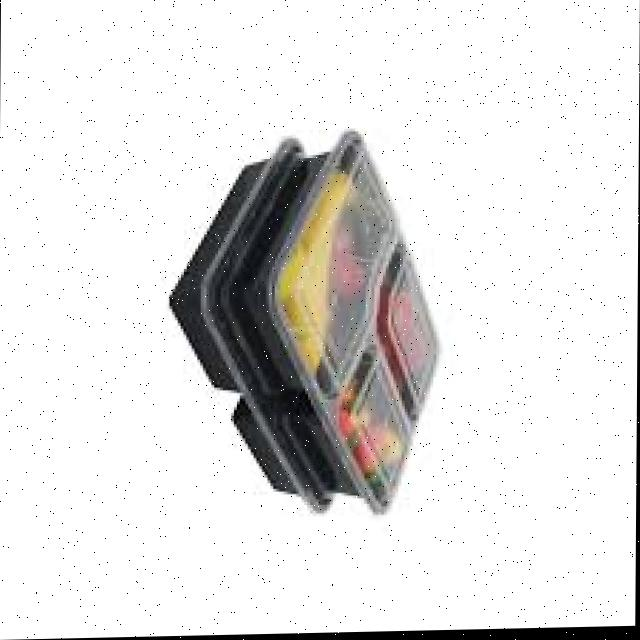disposable: (154, 124, 461, 539)
